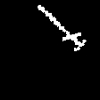double_crochet: (38, 5, 85, 50)
